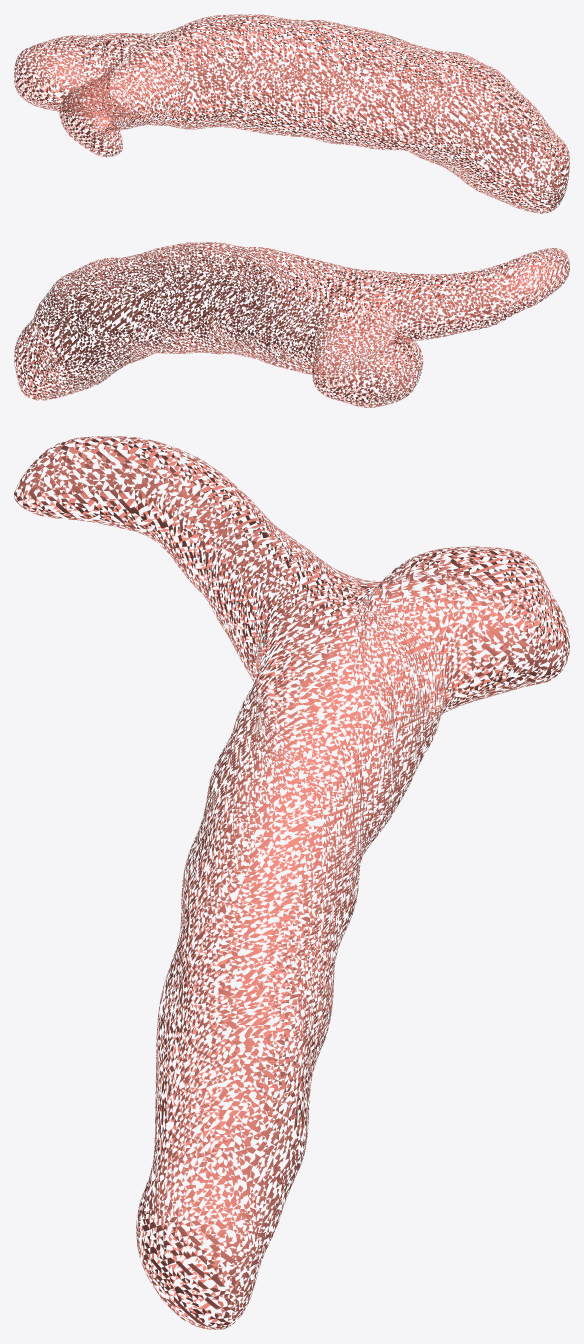
File: diseased.glb
3 views of the same model, one above another, from view 1: azimuth 30°, elevation 25°; view 2: azimuth 150°, elevation 25°; view 3: azimuth 270°, elevation 25° (orthographic). The views are drawn at different scales.
Bounding box in the file's own units: 129 × 58.82 × 64.87.
